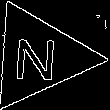N_N: (14, 31, 63, 83)
